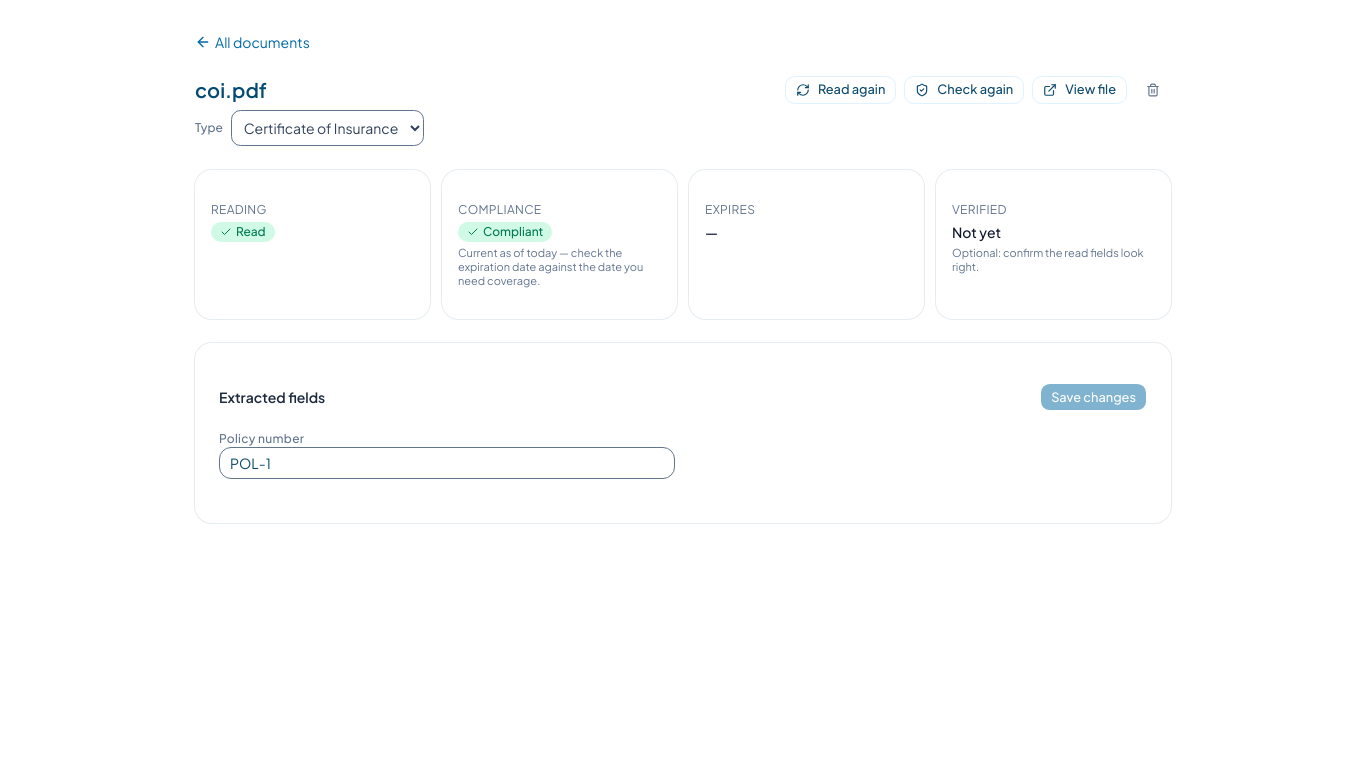
Test: DocumentDetailPage — Batch C (#317) › FP-062: confirms on UNSAVED pending edits too (the common type-then-reread case)
Replace the text in the field showing "POL-1" with "POL-2" at [447, 463], box [219,447,675,479]
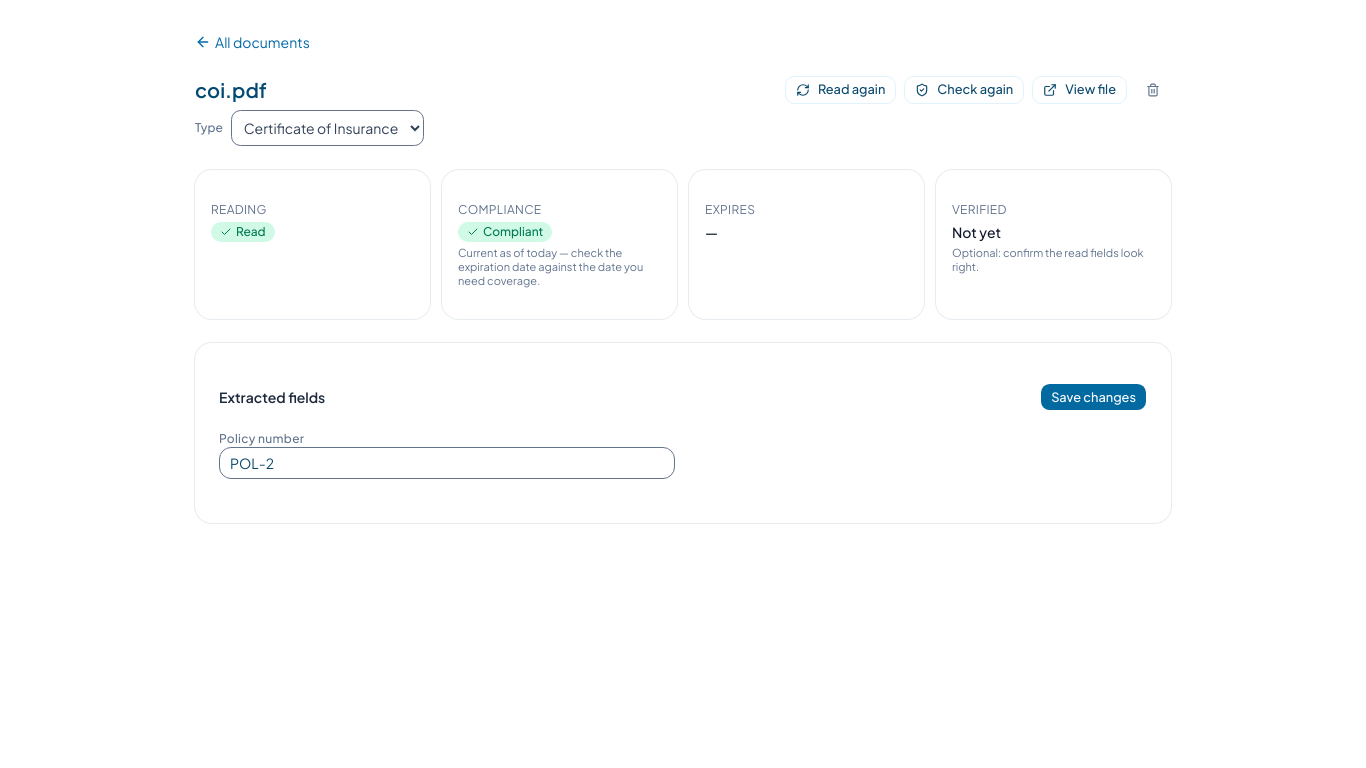
Click the button "Read again" at [841, 90], box [785,76,896,104]
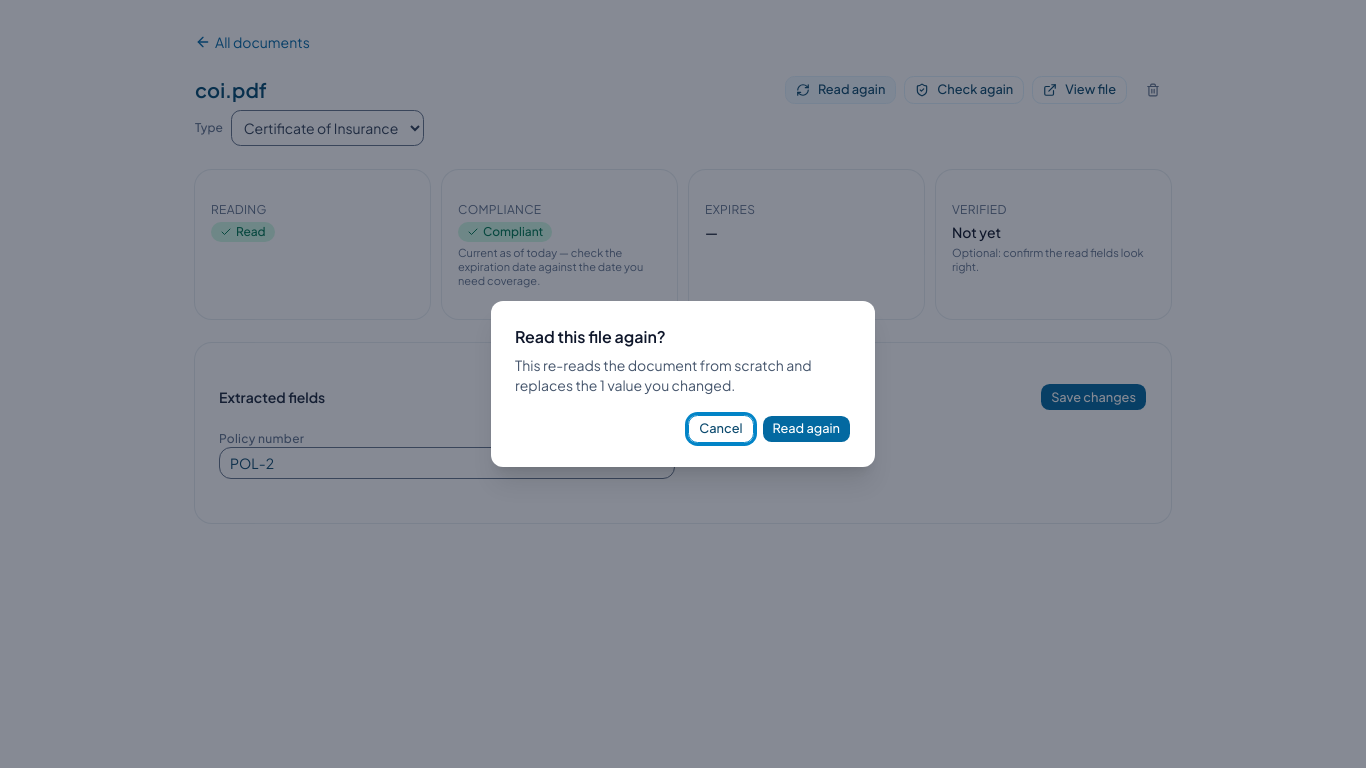
Check: the text "replaces the 1 value you changed" is shown, box [515,356,812,394]
